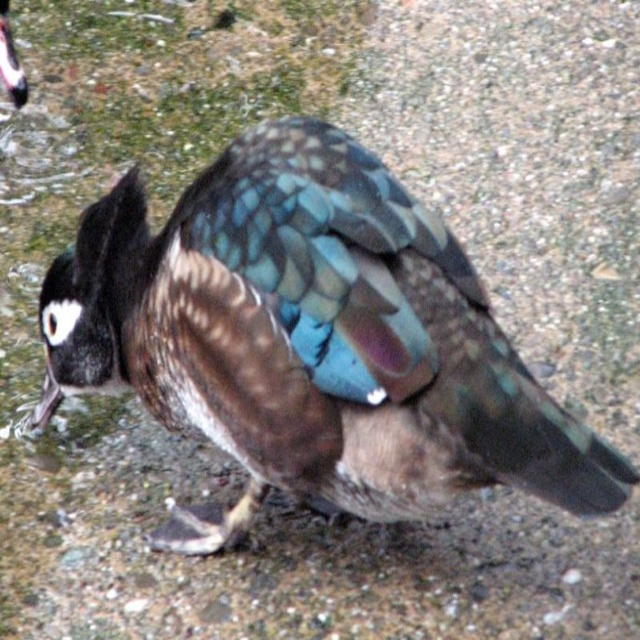Duck: (0, 79, 638, 539)
